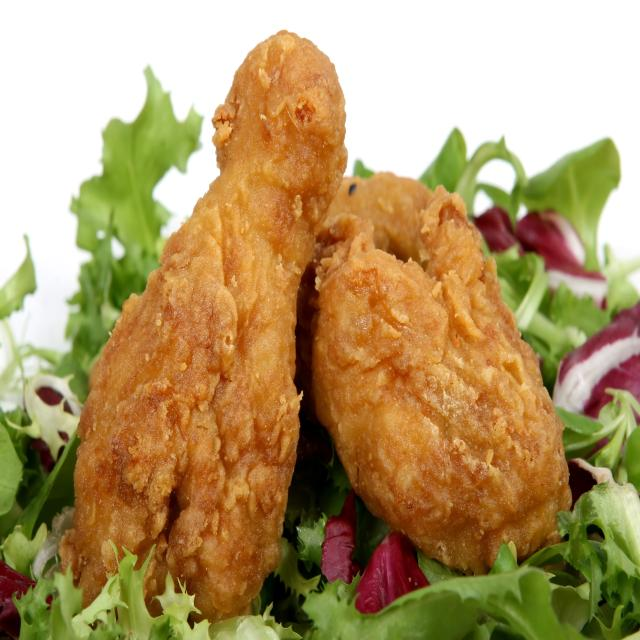Frango: (64, 30, 571, 620)
